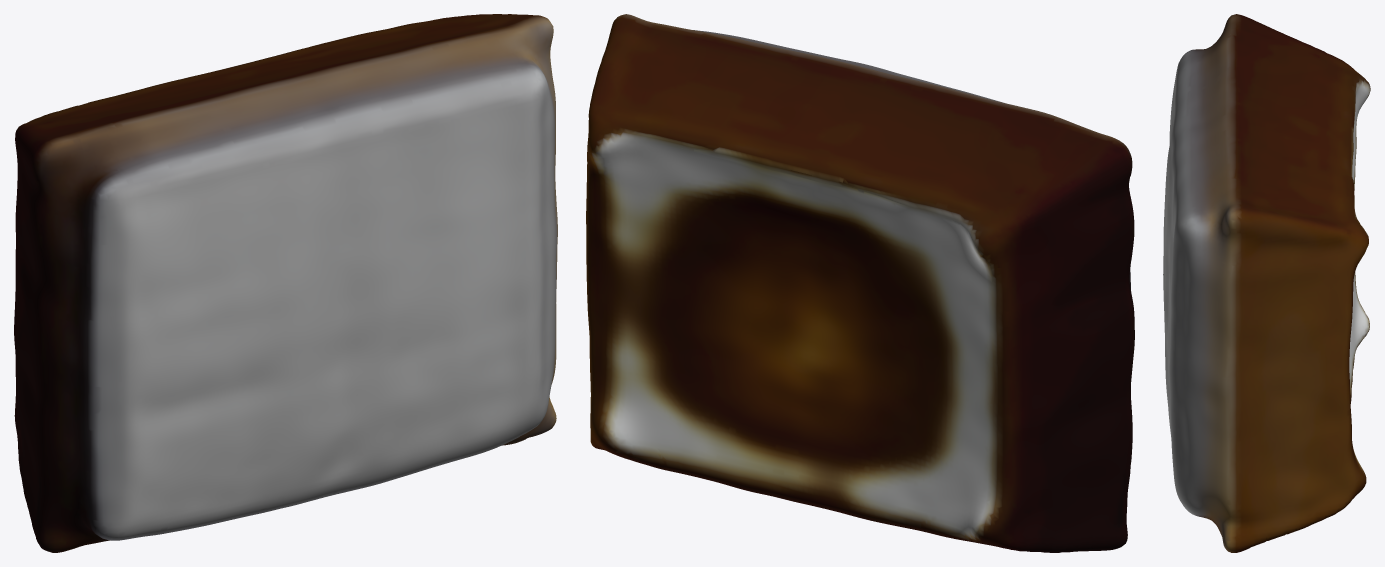
File: soap.glb
The picture shows the model from 3 angles, left to right: view 1: azimuth 30°, elevation 25°; view 2: azimuth 150°, elevation 25°; view 3: azimuth 270°, elevation 25°; orthographic projection. The views are drawn at different scales.
Bounding box in the file's own units: 0.999 × 0.7686 × 0.4166.
